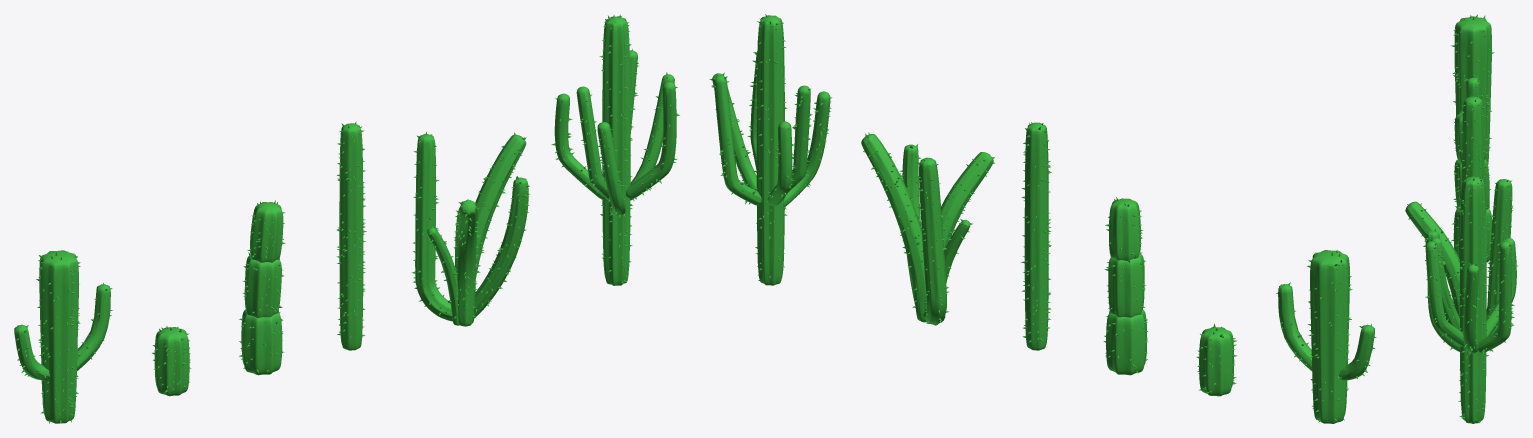
File: cactus.fbx
3 views of the same model, side by side, from view 1: azimuth 30°, elevation 25°; view 2: azimuth 150°, elevation 25°; view 3: azimuth 270°, elevation 25° (orthographic). The views are drawn at different scales.
Parts seen in each view (by area): view 1: cactus1, cactus6, cactus2, cactus4, cactus5, cactus3; view 2: cactus1, cactus6, cactus2, cactus4, cactus5, cactus3; view 3: cactus1, cactus6, cactus2, cactus5, cactus4.
Boxes of the visible parts, left/top/right/bottom form: cactus1: left=551, top=14, right=679, bottom=285; cactus6: left=411, top=132, right=529, bottom=326; cactus2: left=14, top=250, right=112, bottom=423; cactus4: left=239, top=200, right=285, bottom=375; cactus5: left=336, top=121, right=366, bottom=350; cactus3: left=152, top=326, right=191, bottom=396; cactus1: left=709, top=14, right=832, bottom=285; cactus6: left=861, top=132, right=994, bottom=325; cactus2: left=1276, top=250, right=1376, bottom=423; cactus4: left=1103, top=197, right=1147, bottom=375; cactus5: left=1021, top=122, right=1051, bottom=350; cactus3: left=1196, top=323, right=1237, bottom=396; cactus1: left=1425, top=176, right=1517, bottom=423; cactus6: left=1405, top=179, right=1513, bottom=334; cactus2: left=1451, top=14, right=1494, bottom=164; cactus5: left=1460, top=94, right=1486, bottom=225; cactus4: left=1451, top=110, right=1492, bottom=261.
Bounding box in the file's own units: 2192 × 852 × 354.
